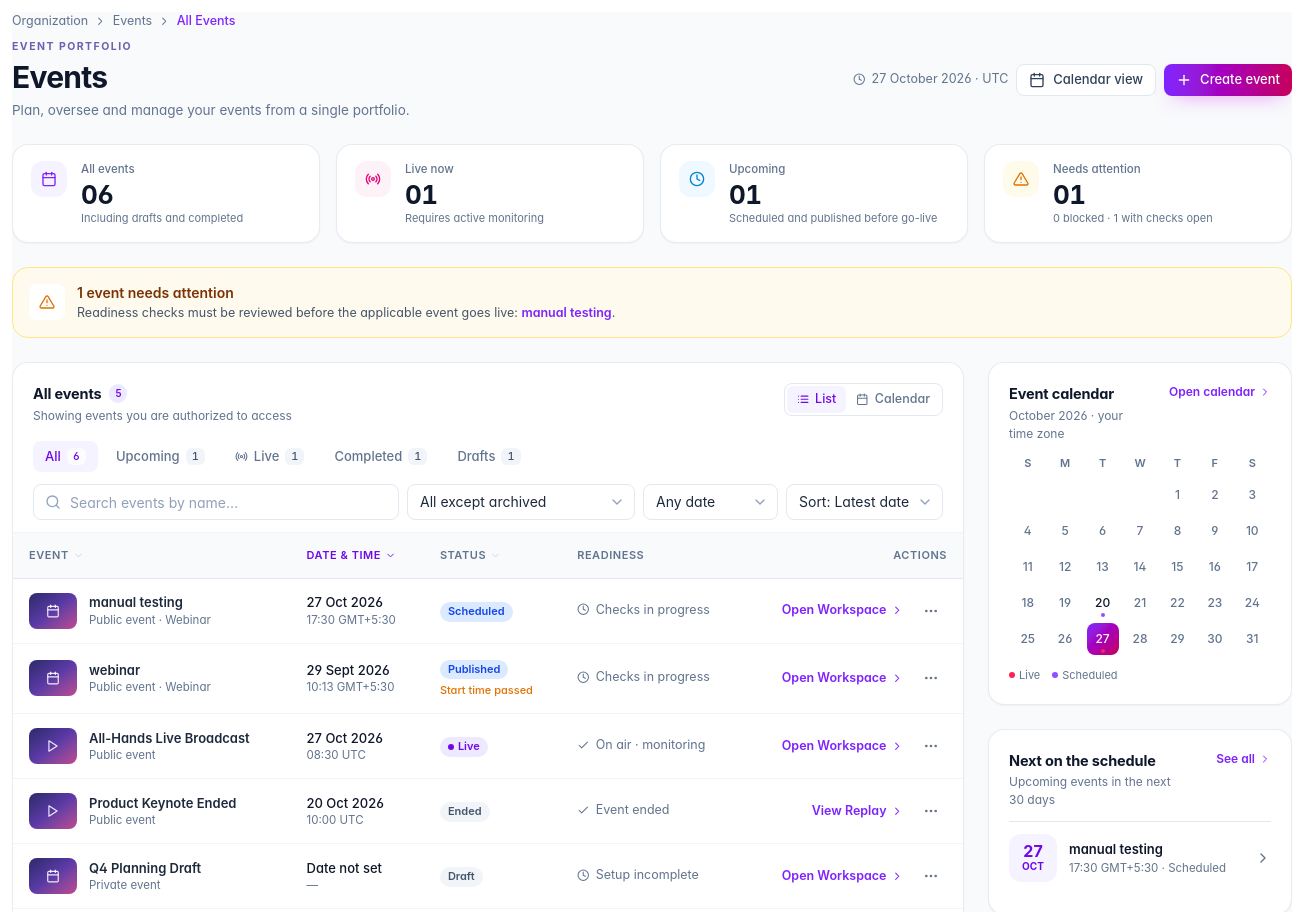
Test: Organization Events Page: Upcoming Metric & Tab Filtering › 7: Other tabs (All, Live, Completed, Drafts) retain their intended behavior
Expected: the button "manual testing" is shown, [89,593,183,612]
Expected: the button "webinar" is shown, [89,661,140,680]
Note: Switch to Live tab
Click the tab "Live 1".
click(270, 456)  # box [223,441,316,472]
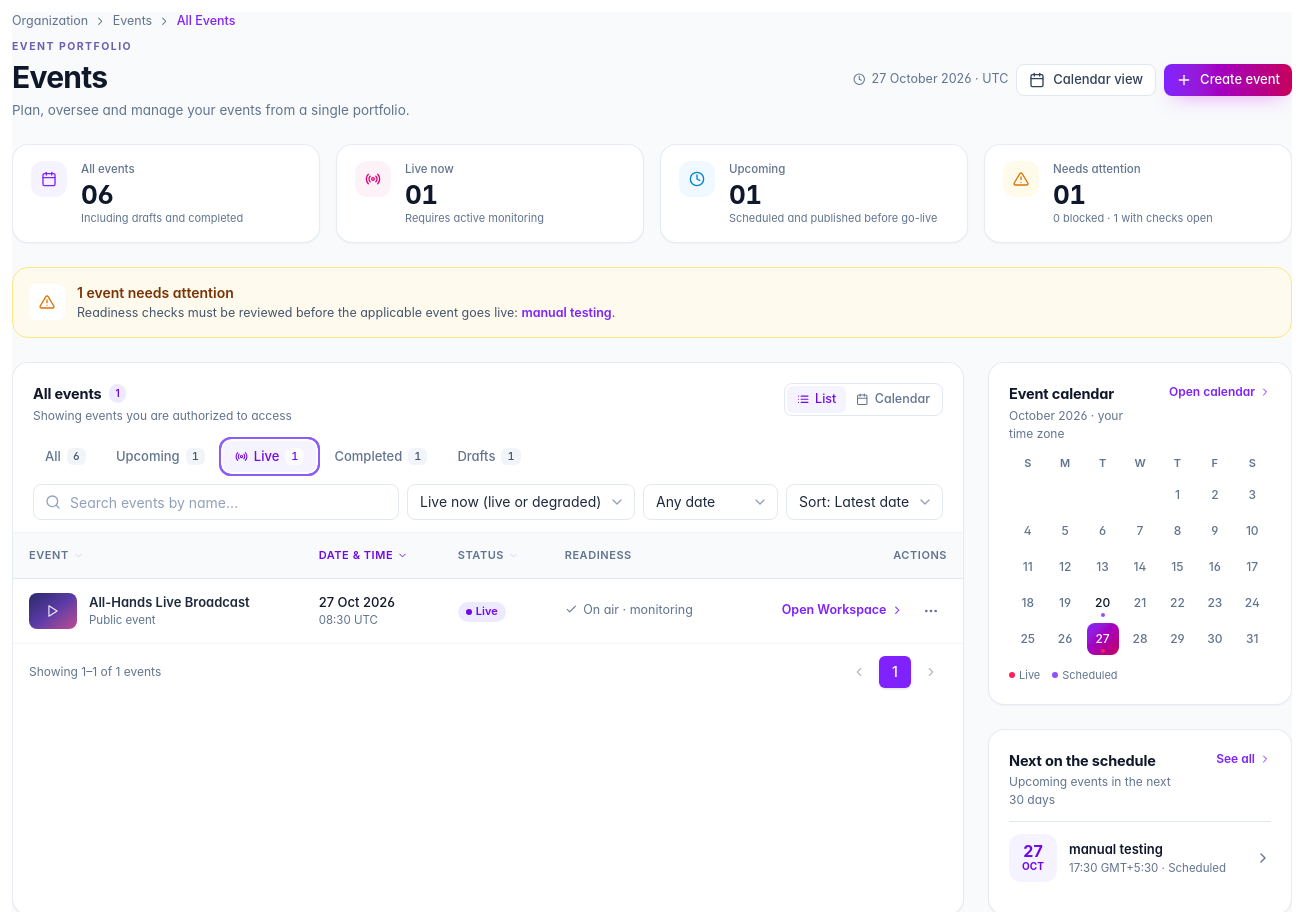
Expected: the button "All-Hands Live Broadcast" is shown, [89,593,250,612]
Result: the text "Webinar" is gone
Note: Switch to Completed tab
Click the tab "Completed 1".
click(381, 456)  # box [322,441,439,472]
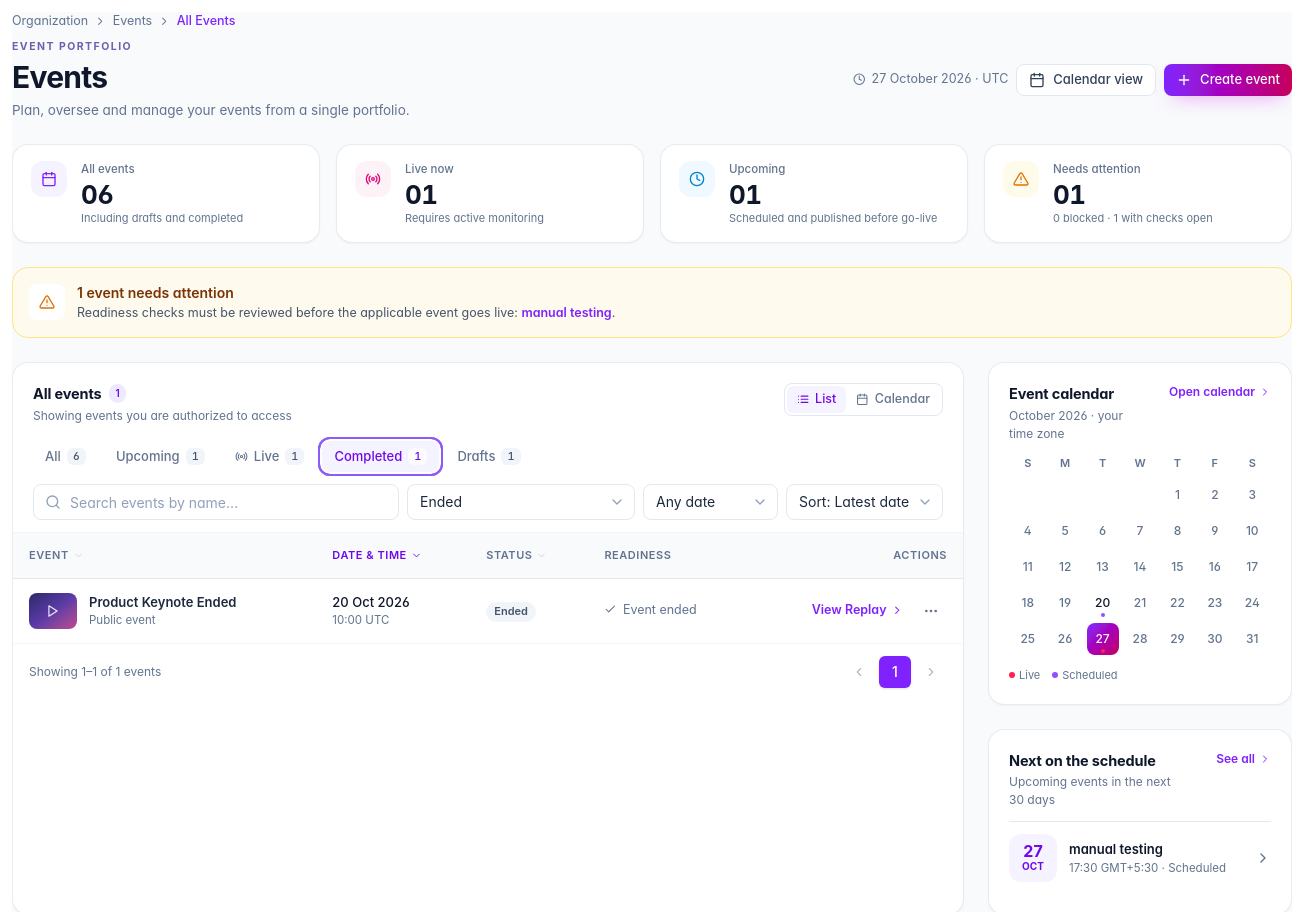
Result: the button "Product Keynote Ended" is shown at [89,593,236,612]
Note: Switch to Drafts tab
Click the tab "Drafts 1".
click(489, 456)  # box [445,441,532,472]
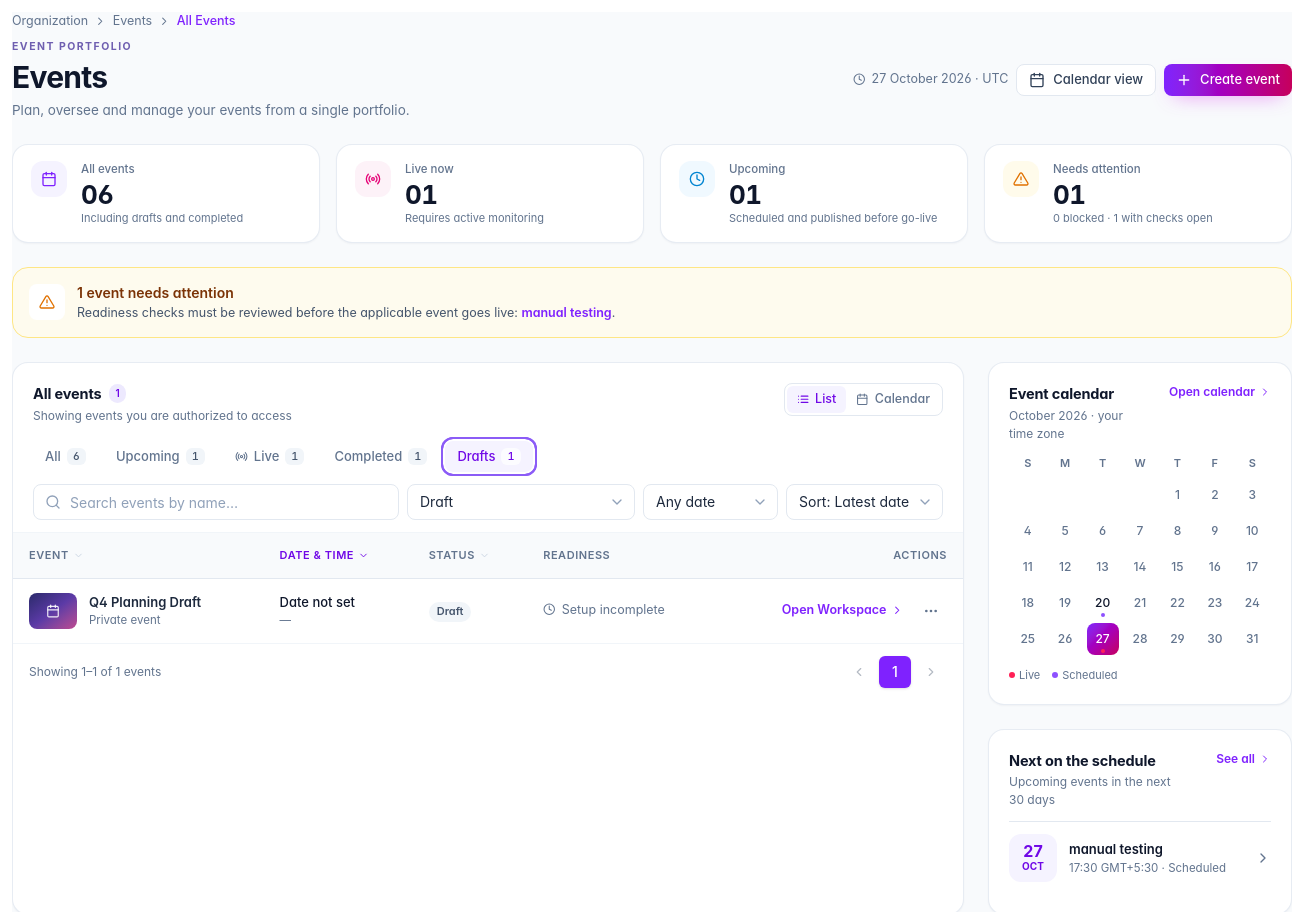
Result: the button "Q4 Planning Draft" is shown at [89,593,201,612]
